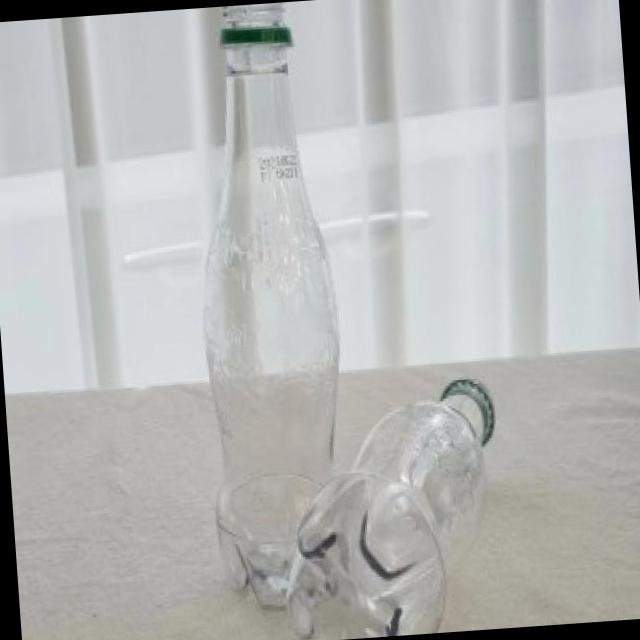plastic_bottle: (178, 2, 356, 616), (273, 375, 510, 640)
